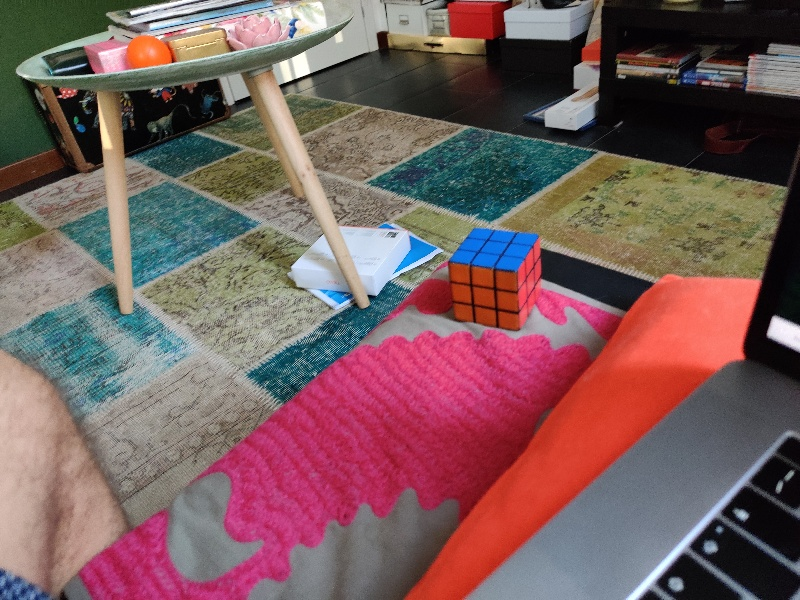rubik: (448, 228, 544, 331)
